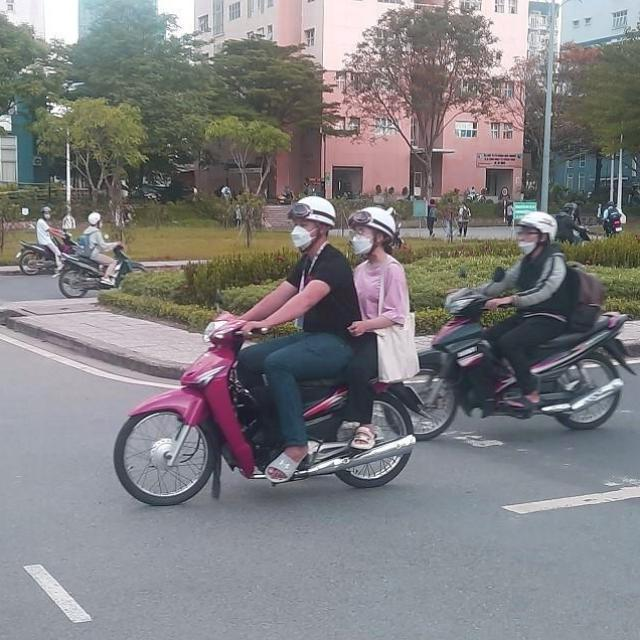Helmet: (350, 205, 398, 258), (288, 197, 336, 250), (511, 209, 560, 256)
